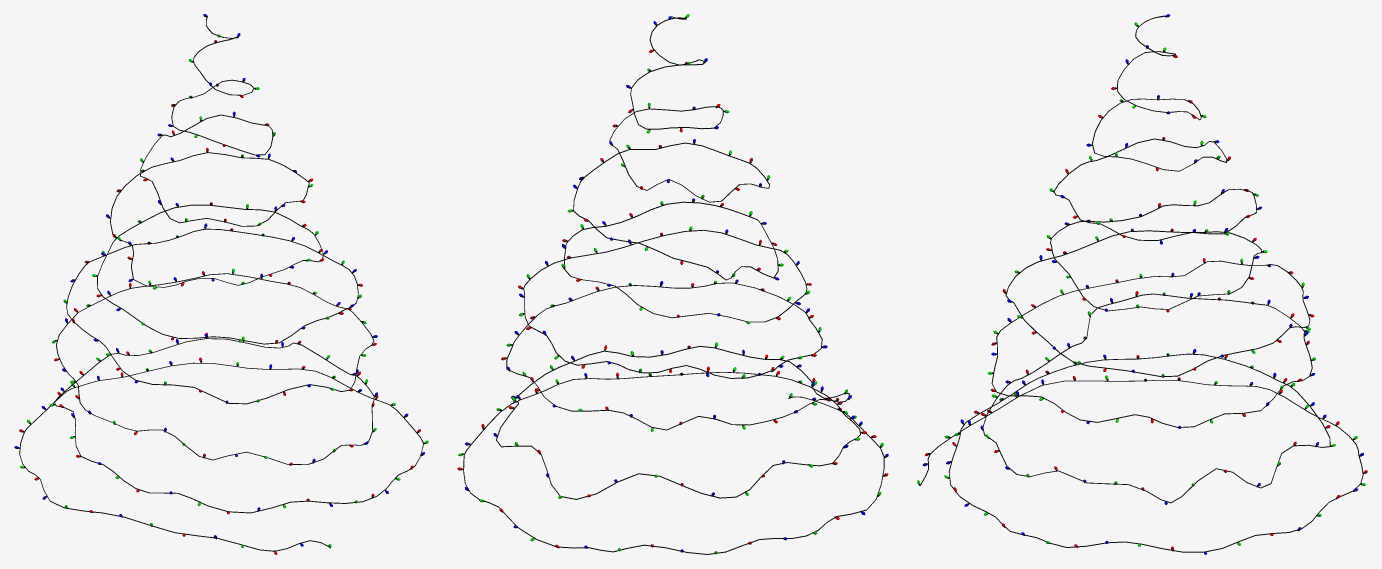
The model's file is christmaslights.gltf.
3 renders of one model, left to right at view 1: azimuth 30°, elevation 25°; view 2: azimuth 150°, elevation 25°; view 3: azimuth 270°, elevation 25°, orthographic. The views are drawn at different scales.
Visible parts, largest first — view 1: ChrsitmasLights; view 2: ChrsitmasLights; view 3: ChrsitmasLights.
Boxes of the visible parts, x1,y1,x2,y2 form: ChrsitmasLights: (14, 14, 428, 554); ChrsitmasLights: (457, 14, 888, 554); ChrsitmasLights: (917, 14, 1367, 554).
Size of the model in its own units: 1.21 by 1.48 by 1.29.
